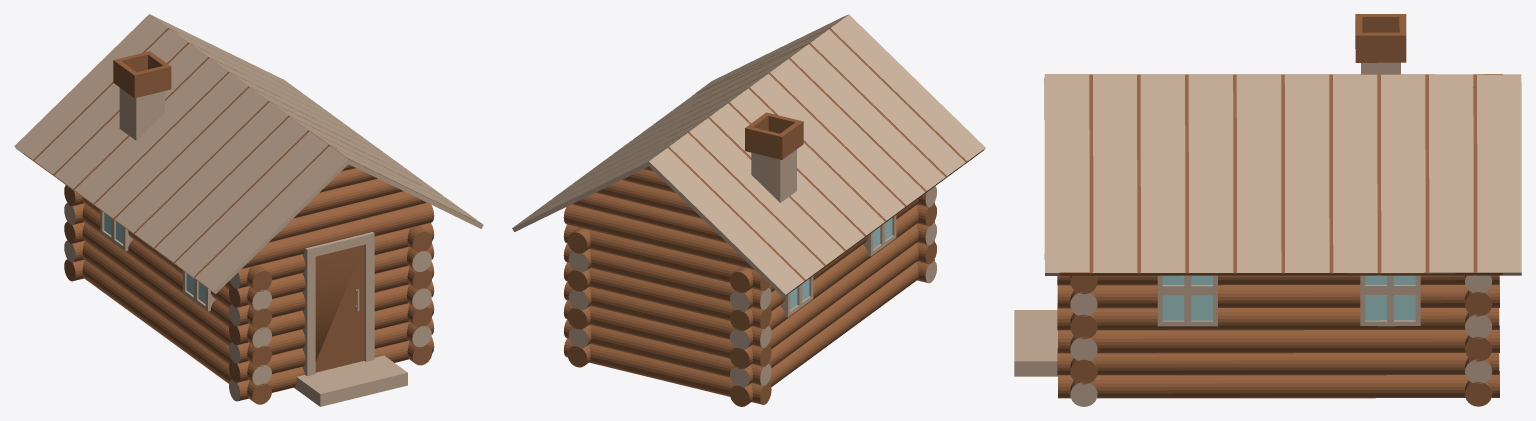
File: cabin.glb
3 views of the same model, side by side, from view 1: azimuth 30°, elevation 25°; view 2: azimuth 150°, elevation 25°; view 3: azimuth 270°, elevation 25° (orthographic). The views are drawn at different scales.
Visible parts, largest first — view 1: node-0; view 2: node-0; view 3: node-0.
Part boxes in pixels (bbox=[...]): node-0: bbox=[14, 14, 483, 406]; node-0: bbox=[512, 14, 985, 406]; node-0: bbox=[1014, 14, 1521, 406].
Size of the model in its own units: 33.27 by 28.01 by 44.9.
